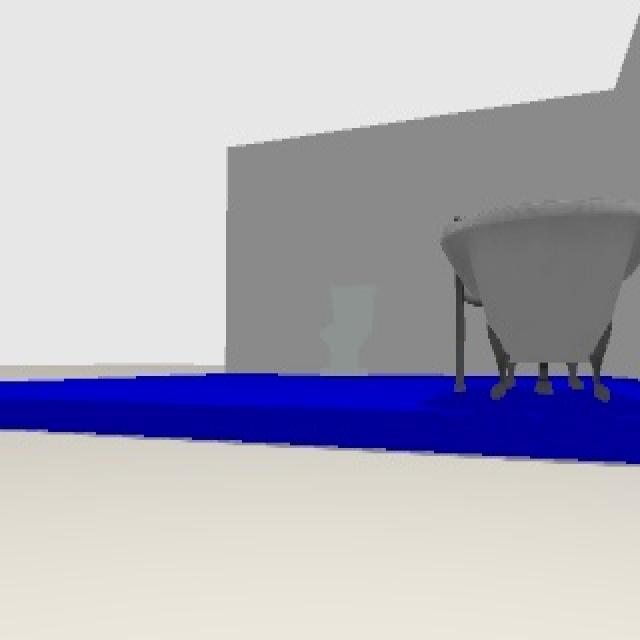bathtub: (442, 197, 640, 400)
